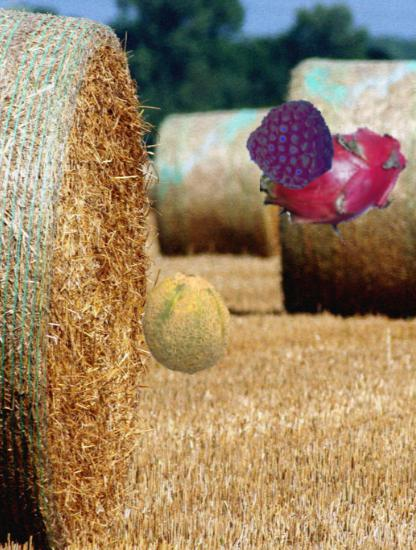Cantaloupe: (135, 272, 239, 376)
Pitahaya: (260, 111, 410, 261)
Raspberry: (249, 103, 336, 190)
